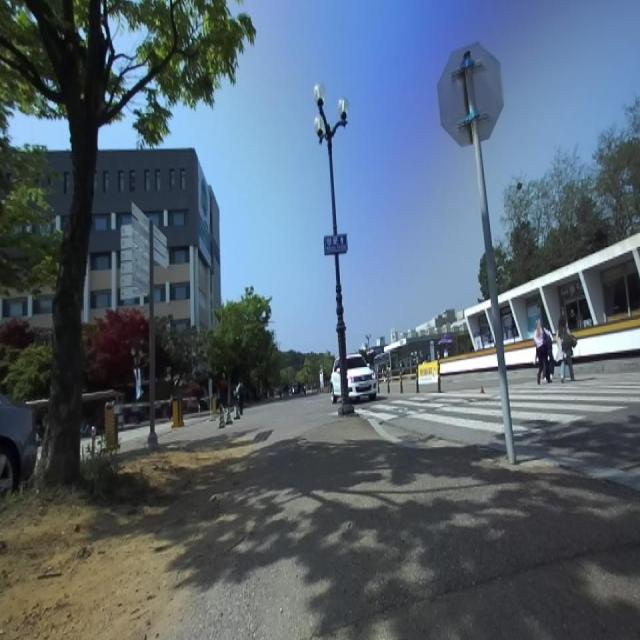sidewalk: (175, 424, 640, 639)
